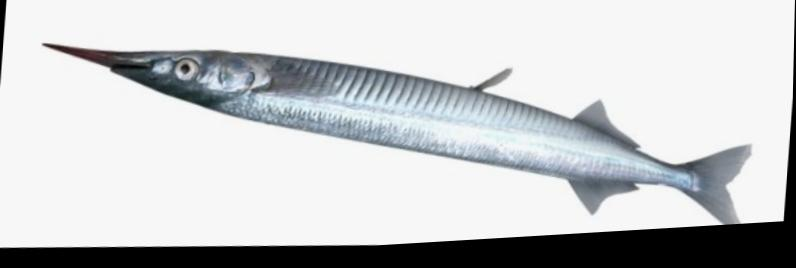fish: (40, 41, 756, 234)
